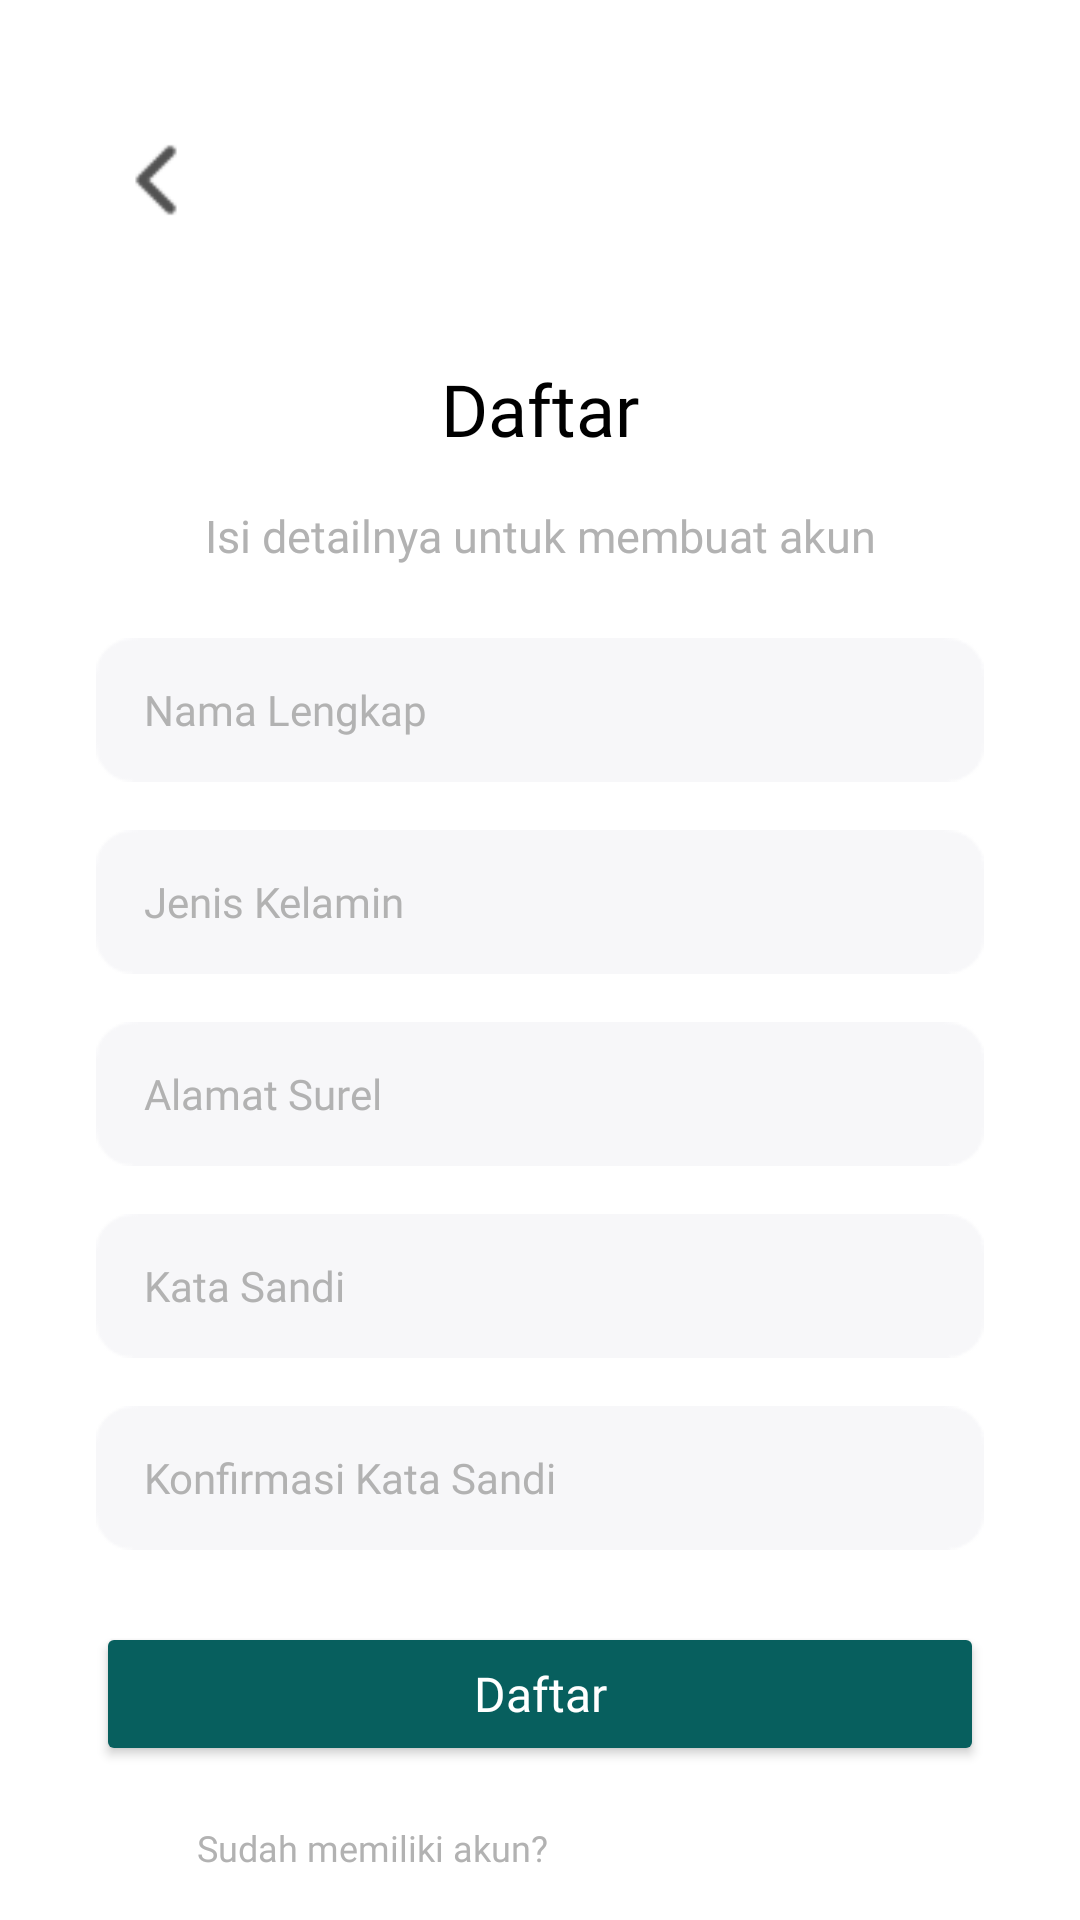

Icons on this 1080 x 1920 Android screen, each with its box as bbox=(x1, y1, x2, y2):
back blank: bbox=(135, 145, 177, 215)
